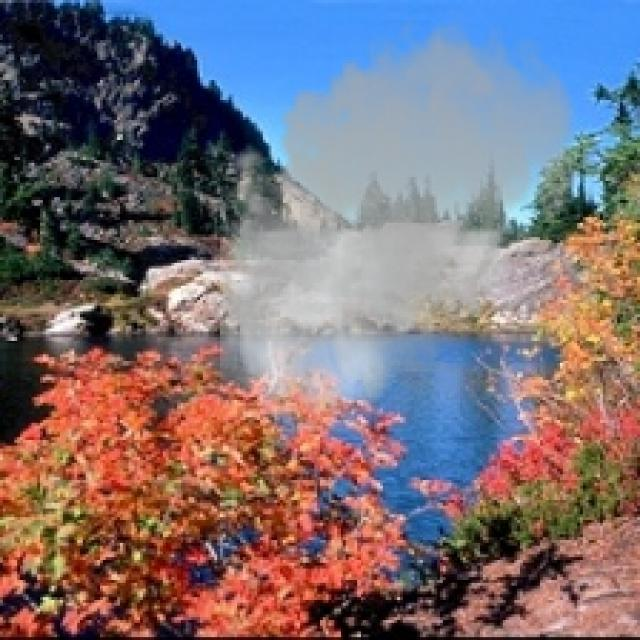smoke: (206, 6, 583, 431)
